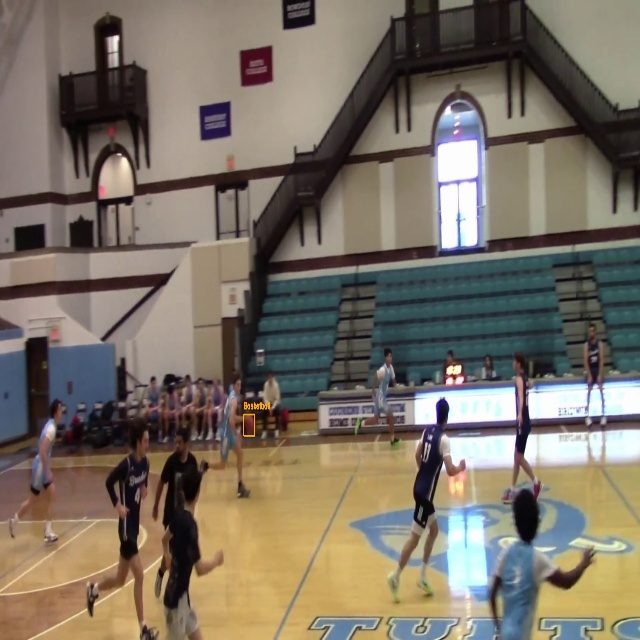Basketball: (244, 415, 255, 436)
